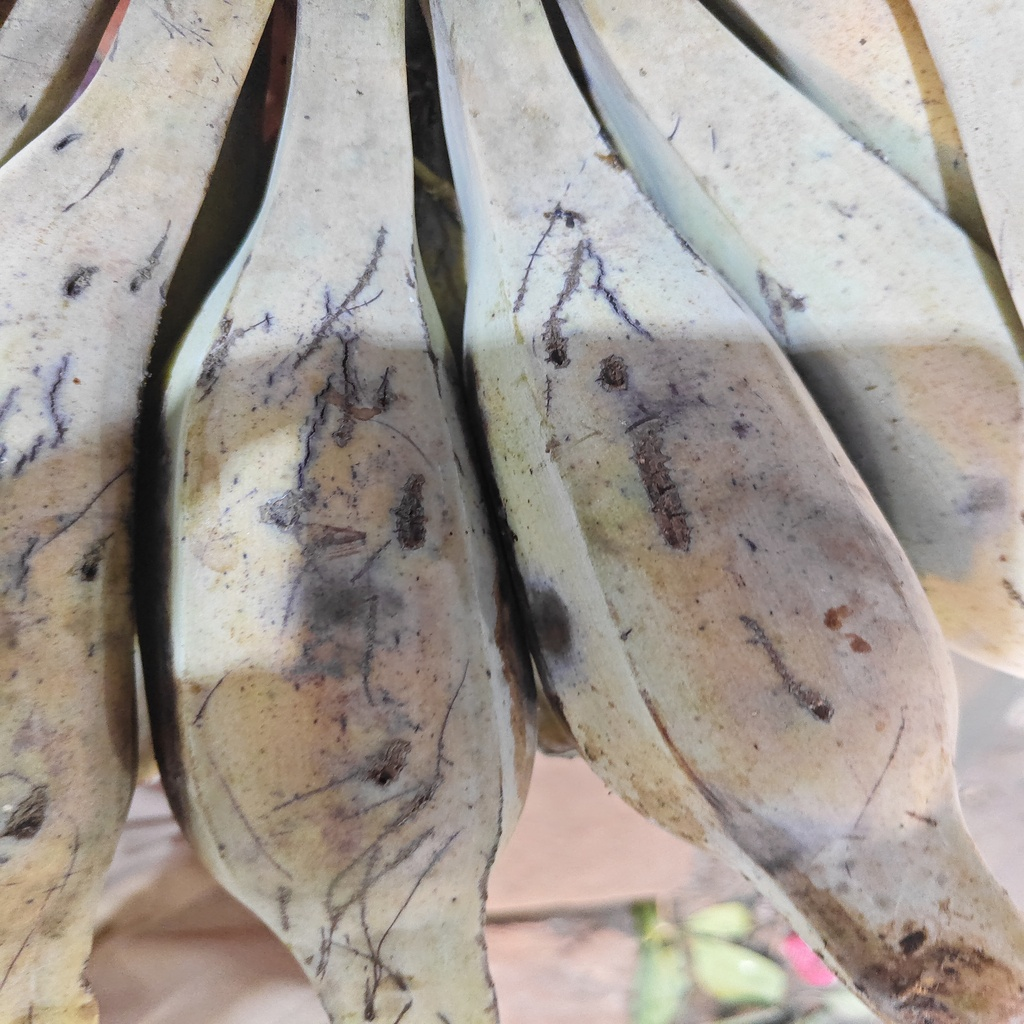unhealthy: (440, 46, 1022, 1016), (147, 105, 538, 1024)
